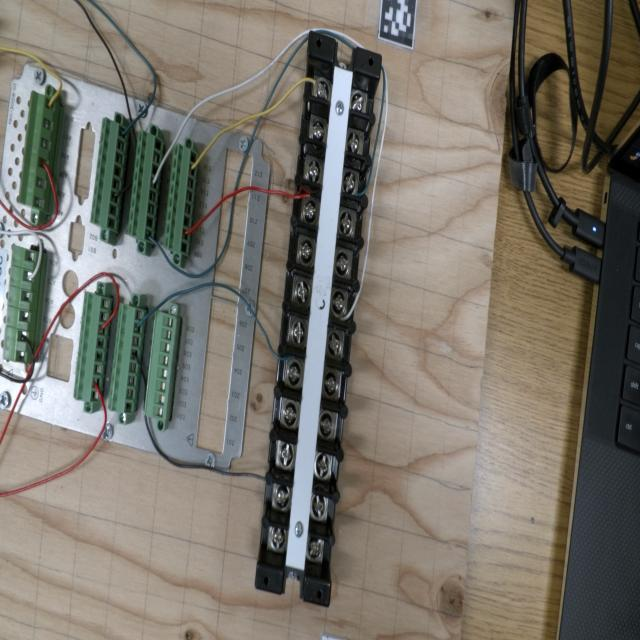Phillips_Block: (254, 32, 384, 607)
Terminal_1: (18, 90, 59, 212), (2, 245, 40, 364)
Terminal_2: (89, 117, 130, 232), (126, 129, 165, 245), (107, 302, 147, 414), (73, 291, 112, 403), (162, 143, 199, 256)
